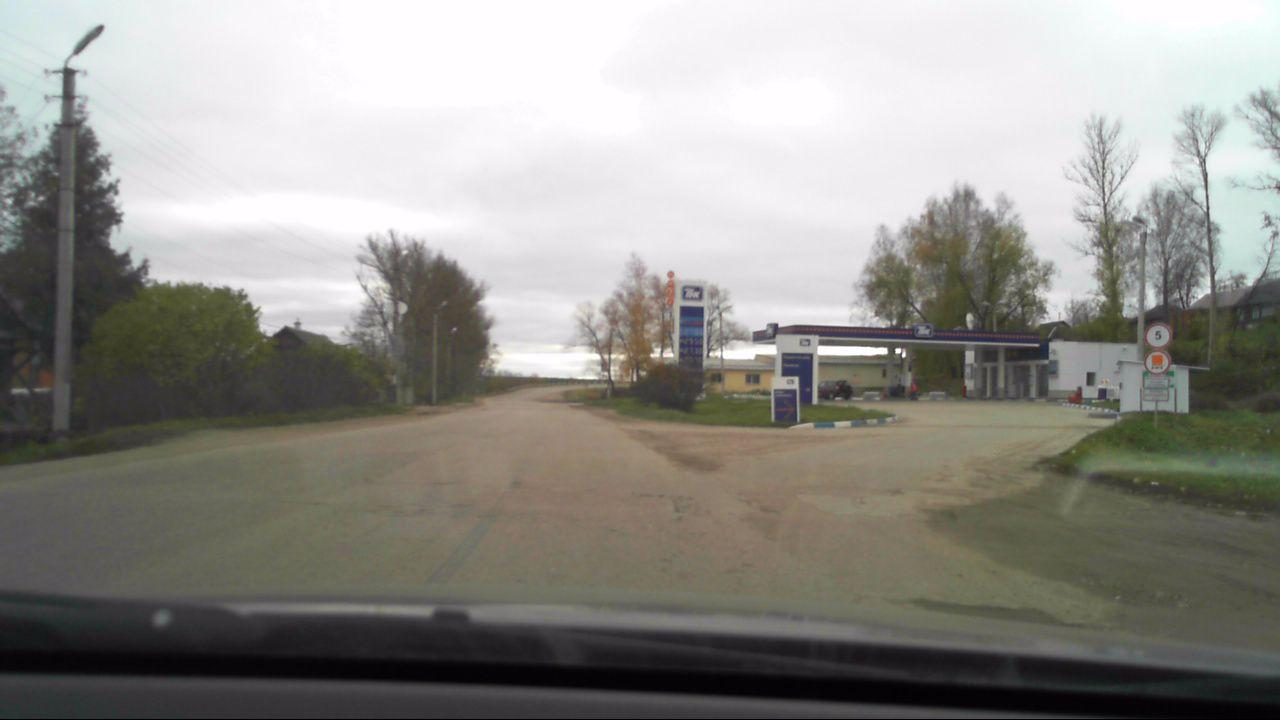3_24: (1144, 322, 1172, 348)
3_32: (1143, 350, 1171, 375)
